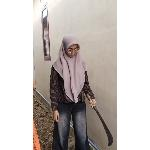Golok: (86, 93, 116, 149)
